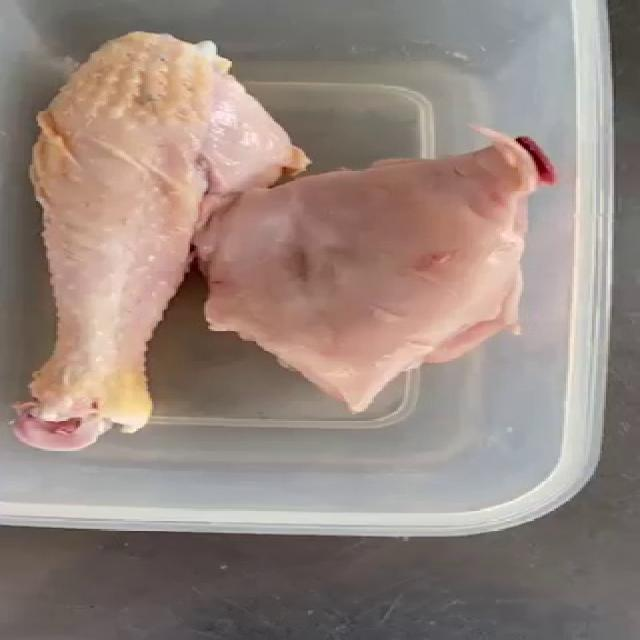chicken: (0, 27, 554, 454)
